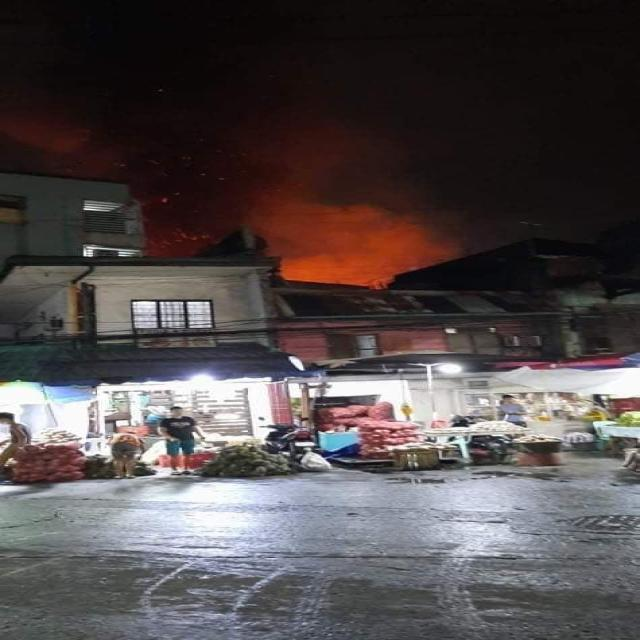Fire: (276, 216, 410, 286)
Smoke: (36, 8, 278, 266)
